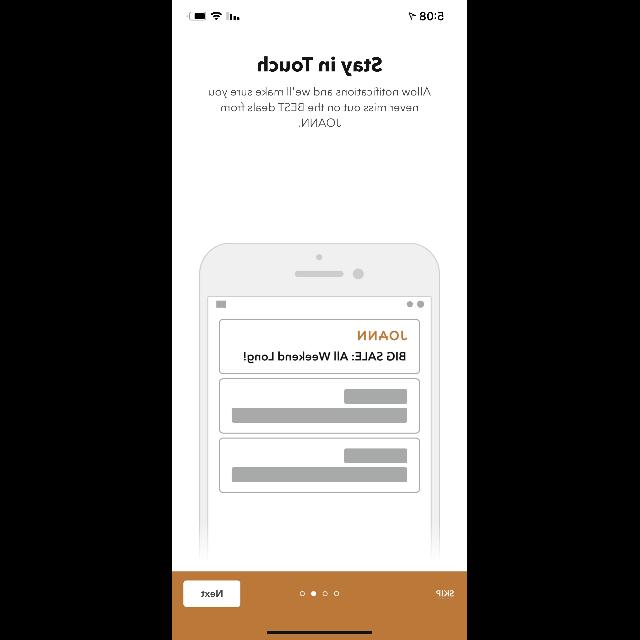image: (200, 243, 440, 559)
pageindicator: (300, 590, 340, 596)
text: (210, 87, 432, 127), (258, 56, 384, 76), (437, 590, 455, 598)
textbutton: (183, 581, 240, 607)
uppertaskbar: (188, 12, 444, 21)
